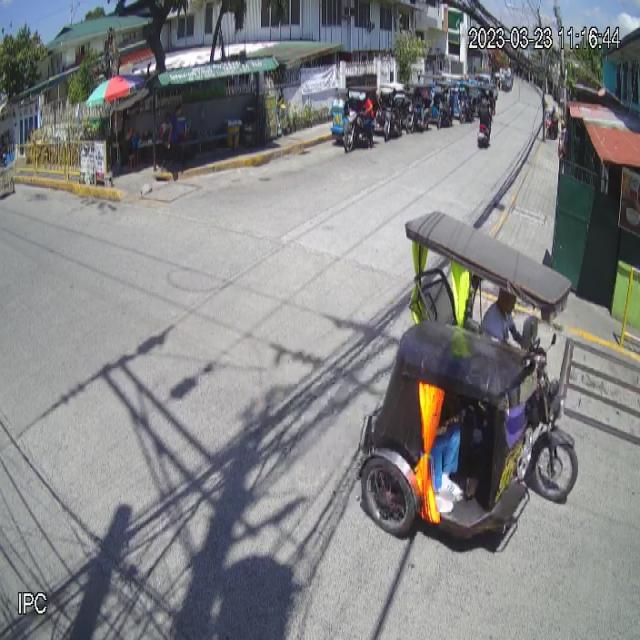Tricycle: (361, 210, 578, 545)
